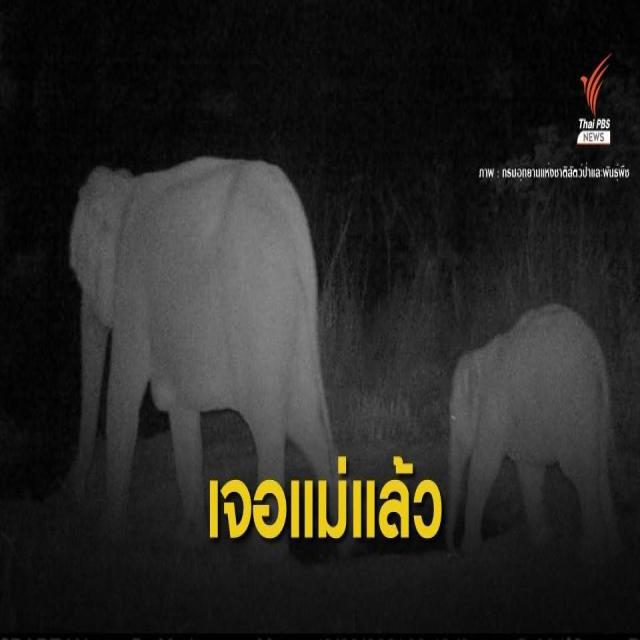Elephant: (44, 130, 338, 508), (439, 235, 628, 584)
